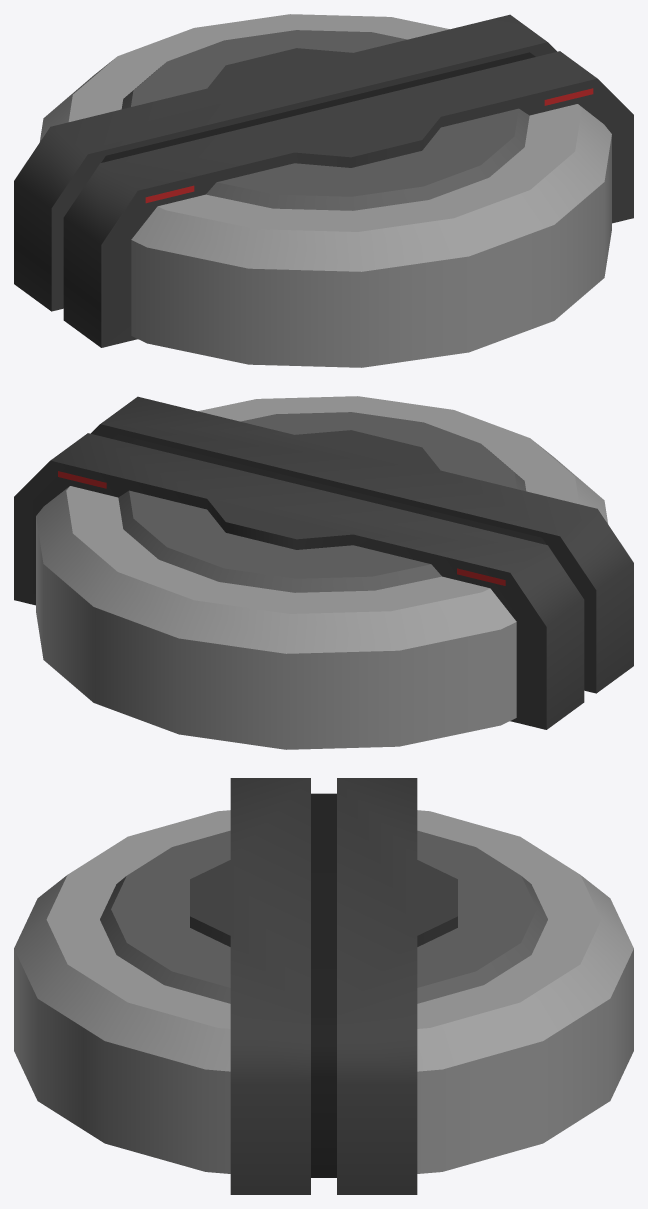
Rendered from space_station_009.fbx.
3 views of the same model, one above another, from view 1: azimuth 30°, elevation 25°; view 2: azimuth 150°, elevation 25°; view 3: azimuth 270°, elevation 25° (orthographic). The views are drawn at different scales.
Visible parts, largest first — view 1: space_station_009; view 2: space_station_009; view 3: space_station_009.
Part boxes in pixels (x1,y1,x2,y2): space_station_009: (14, 14, 633, 367); space_station_009: (14, 396, 633, 749); space_station_009: (14, 778, 633, 1194).
Bounding box in the file's own units: 1318 × 1245 × 351.
